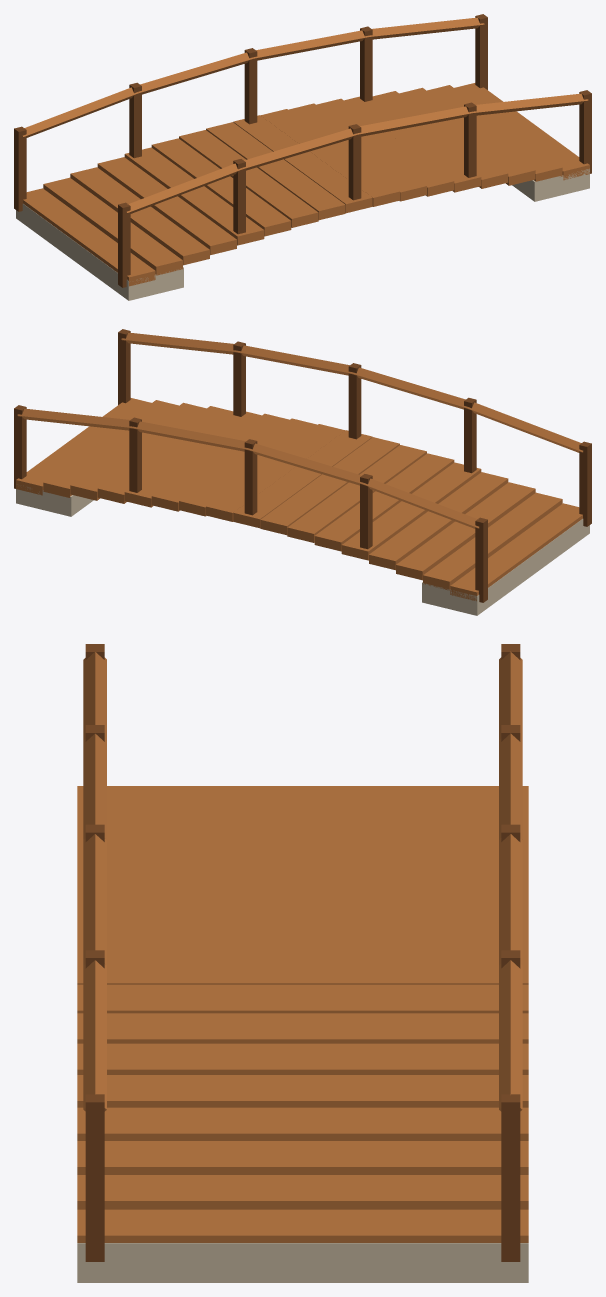
File: footbridge_wood_6m.fbx
The picture shows the model from 3 angles, top to bottom: view 1: azimuth 30°, elevation 25°; view 2: azimuth 150°, elevation 25°; view 3: azimuth 270°, elevation 25°; orthographic projection. The views are drawn at different scales.
Parts seen in each view (by area): view 1: footbridge_wood_6m; view 2: footbridge_wood_6m; view 3: footbridge_wood_6m.
Boxes of the visible parts, bbox=[...] form: footbridge_wood_6m: bbox=[14, 14, 591, 300]; footbridge_wood_6m: bbox=[14, 329, 591, 615]; footbridge_wood_6m: bbox=[77, 644, 528, 1282].
Size of the model in its own units: 6 by 1.4 by 2.5.
